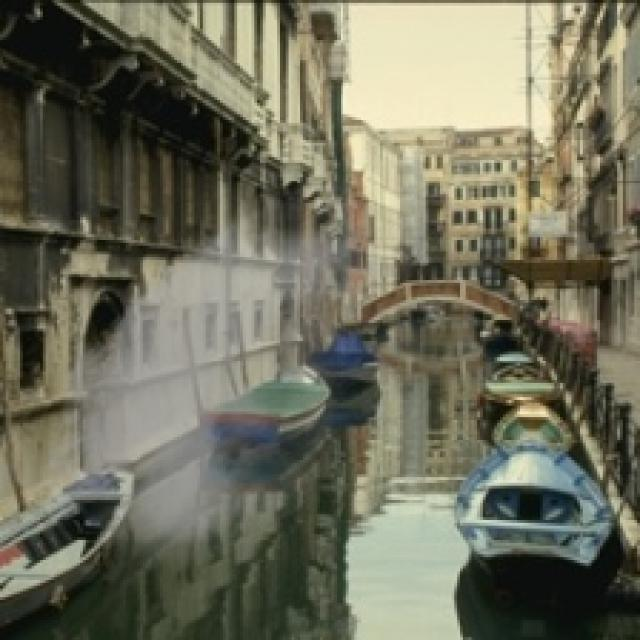Smoke: (29, 168, 452, 588)
